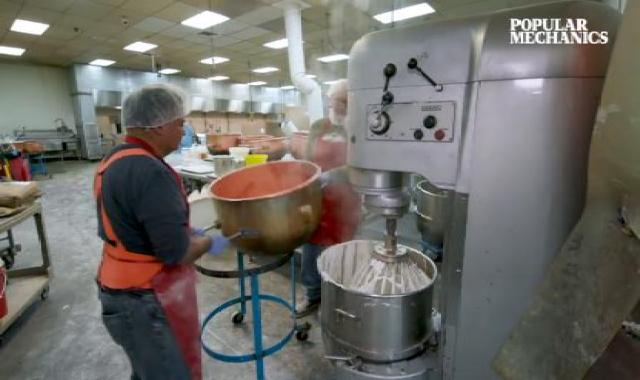hairnet: (115, 80, 198, 132)
